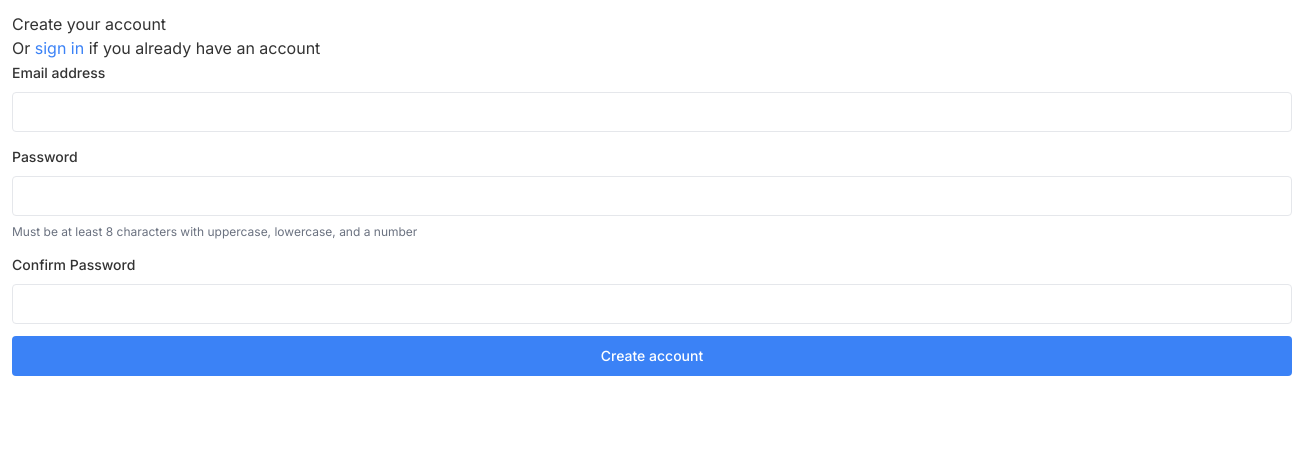
Sign-Up Error Handling › Client-Side Validation Errors › should show error when passwords do not match
This screenshot has width=1304, height=451.
In the field labelled "Email address": (652, 112) [12, 92, 1292, 132], type "test@example.com"
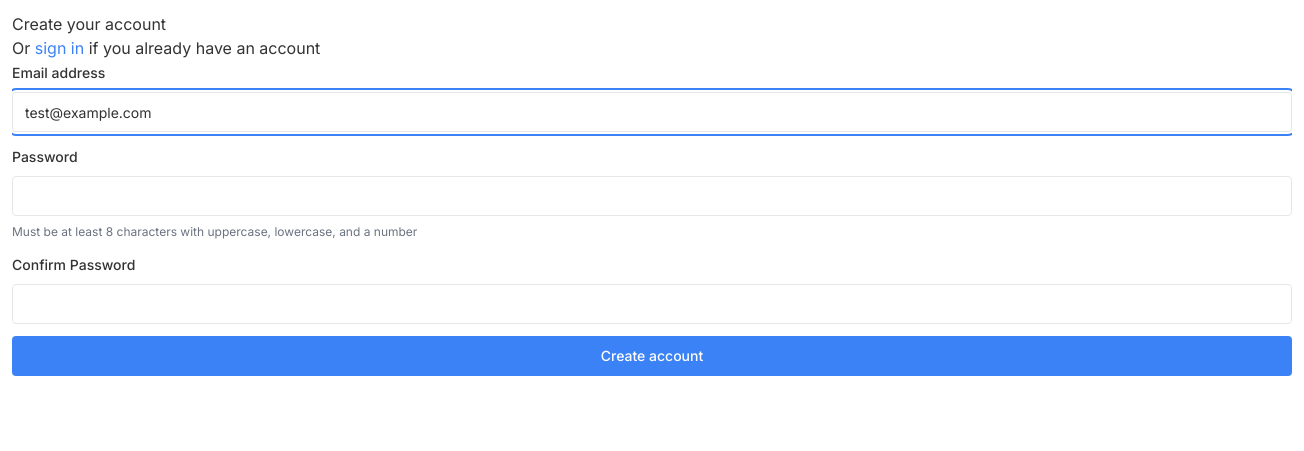
In the password field labelled "Password": (652, 196) [12, 176, 1292, 216], type "password123"
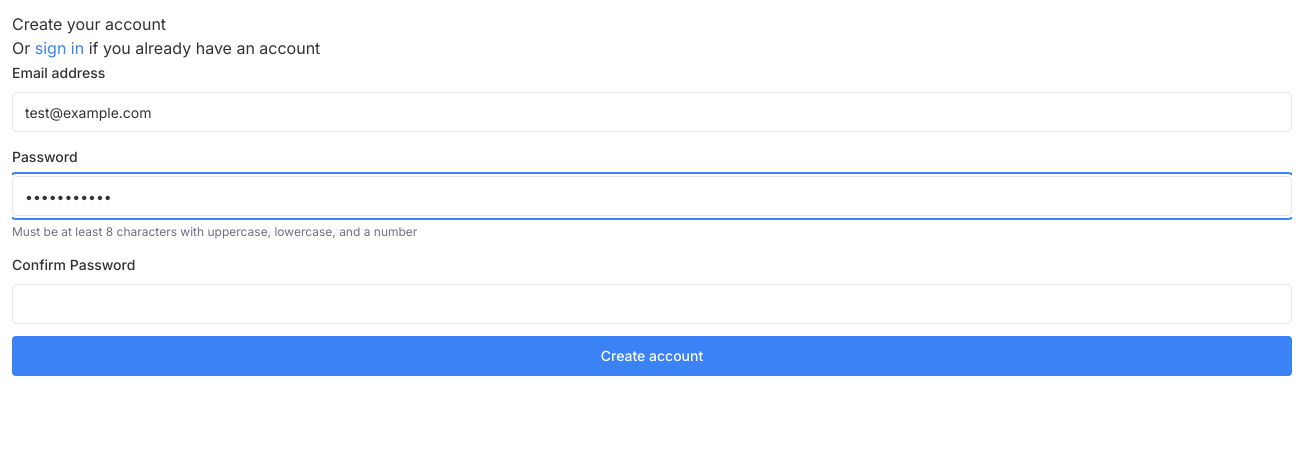
In the password field labelled "Confirm Password": (652, 304) [12, 284, 1292, 324], type "differentpassword"
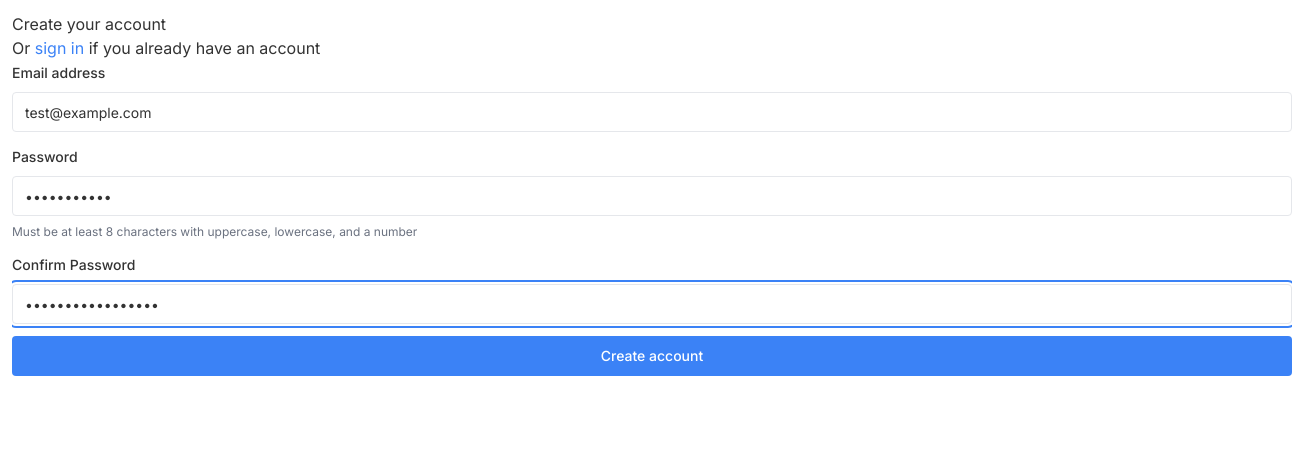
Click the button "Create account": (652, 356) [12, 336, 1292, 376]
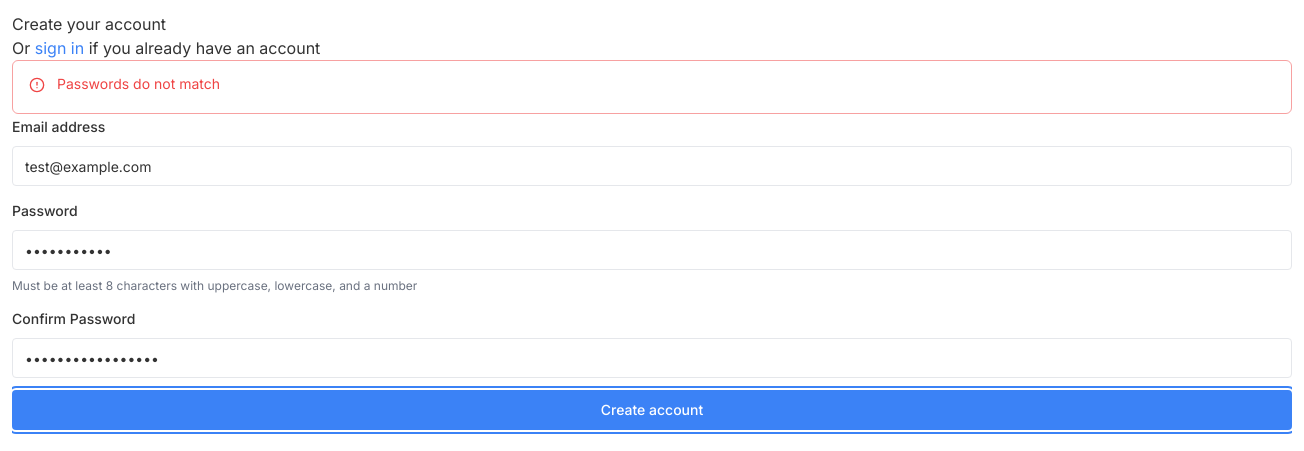
Result: the message "Passwords do not match" is shown at [12, 60, 1292, 114]
Result: the text "Passwords do not match" is shown at [57, 75, 220, 92]
